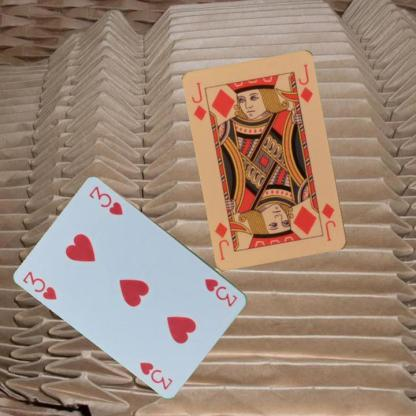3h: (20, 268, 59, 302), (202, 275, 239, 308)
Jd: (189, 80, 209, 122), (319, 201, 337, 243)
